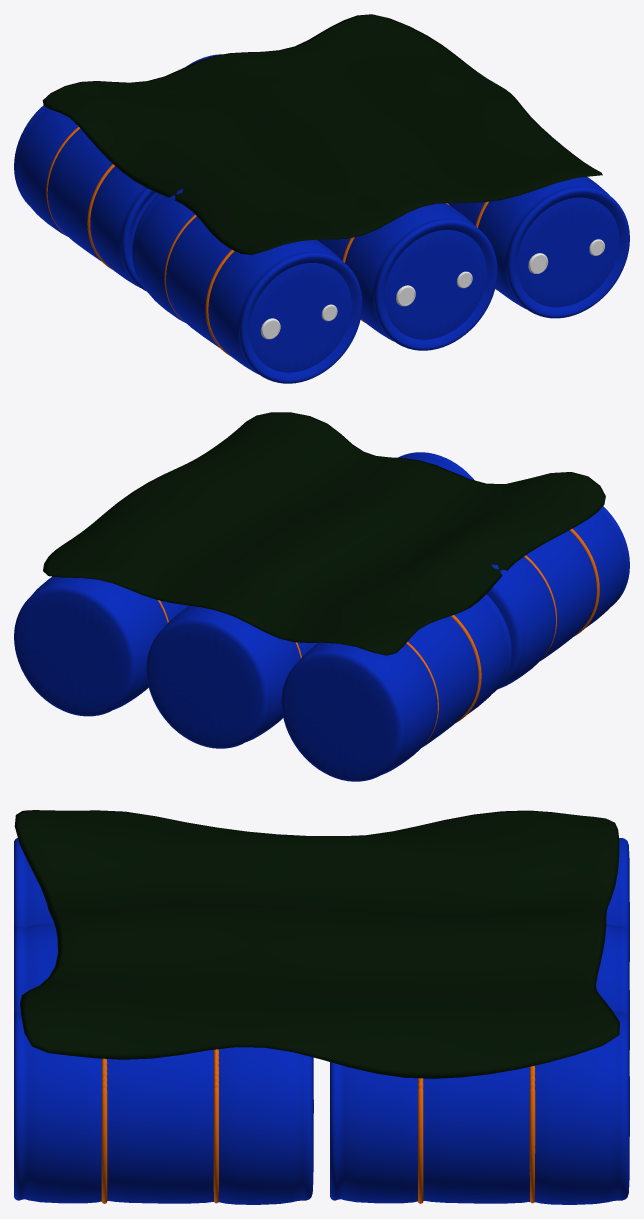
The model's file is plastic_raft_01.fbx.
3 renders of one model, top to bottom at view 1: azimuth 30°, elevation 25°; view 2: azimuth 150°, elevation 25°; view 3: azimuth 270°, elevation 25°, orthographic. The views are drawn at different scales.
Parts seen in each view (by area): view 1: pLastic_foil, barrel.001, barrel, barrel.002, barrel.004; view 2: pLastic_foil, barrel.004, barrel.005, barrel.003, barrel.001, barrel; view 3: pLastic_foil, barrel.002, barrel.005, barrel, barrel.003, barrel.001, barrel.004, barrel_wrap_01.002, barrel_wrap_02.002, barrel_wrap_02.005, barrel_wrap_01.005.
Part boxes in pixels (x1,y1,x2,y2): pLastic_foil: (42, 14, 602, 254); barrel.001: (132, 189, 362, 383); barrel: (317, 203, 497, 350); barrel.002: (447, 177, 629, 318); barrel.004: (14, 105, 158, 290); pLastic_foil: (43, 412, 605, 655); barrel.004: (281, 594, 511, 781); barrel.005: (14, 576, 188, 716); barrel.003: (146, 605, 318, 748); barrel.001: (487, 506, 629, 689); barrel: (398, 452, 474, 480); pLastic_foil: (14, 810, 619, 1078); barrel.002: (14, 1012, 313, 1204); barrel.005: (330, 1012, 629, 1204); barrel: (14, 923, 57, 1015); barrel.003: (596, 924, 629, 1049); barrel.001: (14, 834, 281, 928); barrel.004: (606, 838, 629, 961); barrel_wrap_01.002: (101, 1058, 107, 1203); barrel_wrap_02.002: (213, 1049, 218, 1203); barrel_wrap_02.005: (529, 1065, 535, 1203); barrel_wrap_01.005: (418, 1078, 423, 1203).
Bounding box in the file's own units: 181 × 63.77 × 183.
